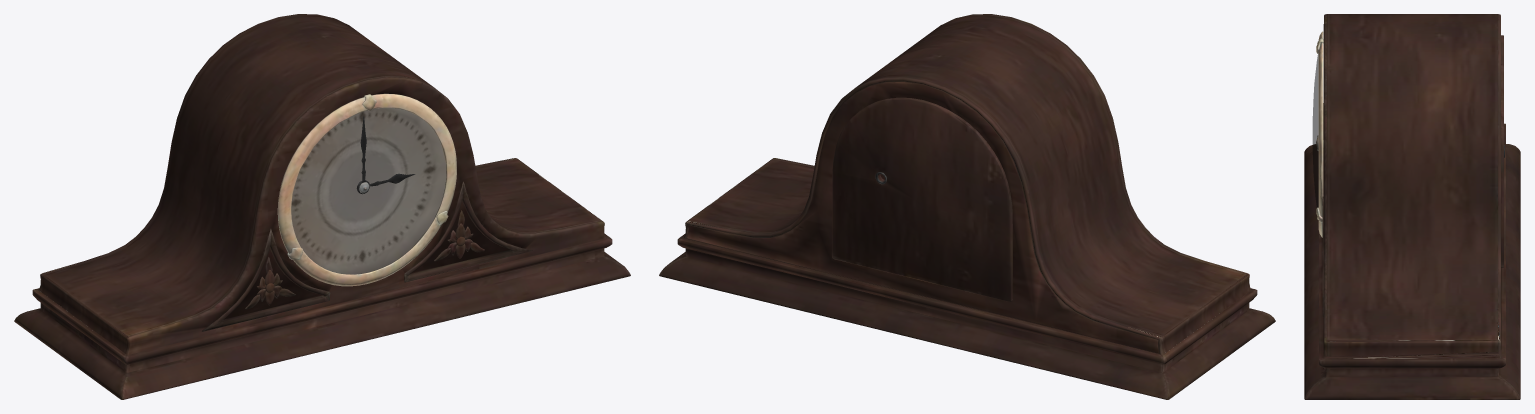
File: mantel_clock_01.glb
3 renders of one model, left to right at view 1: azimuth 30°, elevation 25°; view 2: azimuth 150°, elevation 25°; view 3: azimuth 270°, elevation 25°, orthographic.
Visible parts, largest first — view 1: mantel_clock_01, mantel_clock_01_glass; view 2: mantel_clock_01; view 3: mantel_clock_01, mantel_clock_01_glass.
Part boxes in pixels (left/top/right/bottom): mantel_clock_01: left=14, top=14, right=630, bottom=399; mantel_clock_01_glass: left=291, top=108, right=446, bottom=274; mantel_clock_01: left=659, top=14, right=1275, bottom=399; mantel_clock_01: left=1304, top=14, right=1520, bottom=399; mantel_clock_01_glass: left=1312, top=54, right=1318, bottom=207.
Bounding box in the file's own units: 0.3423 × 0.1604 × 0.1261.
Materials: 2 (2 with a texture image).
